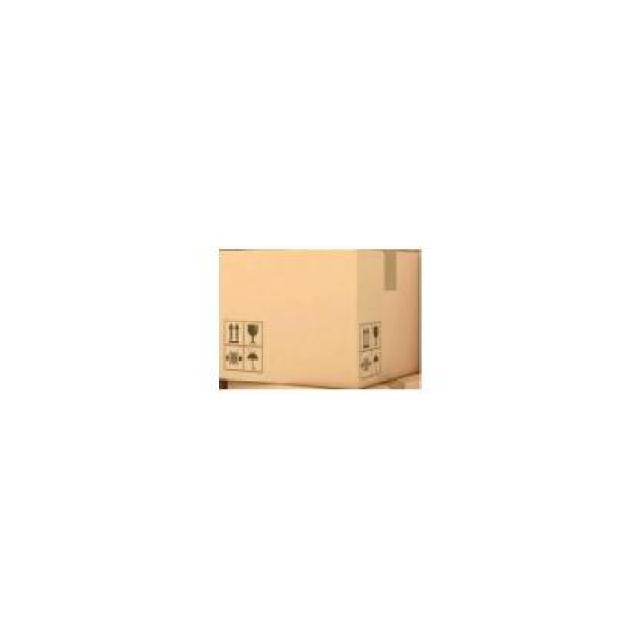cardboxes: (220, 248, 422, 388)
